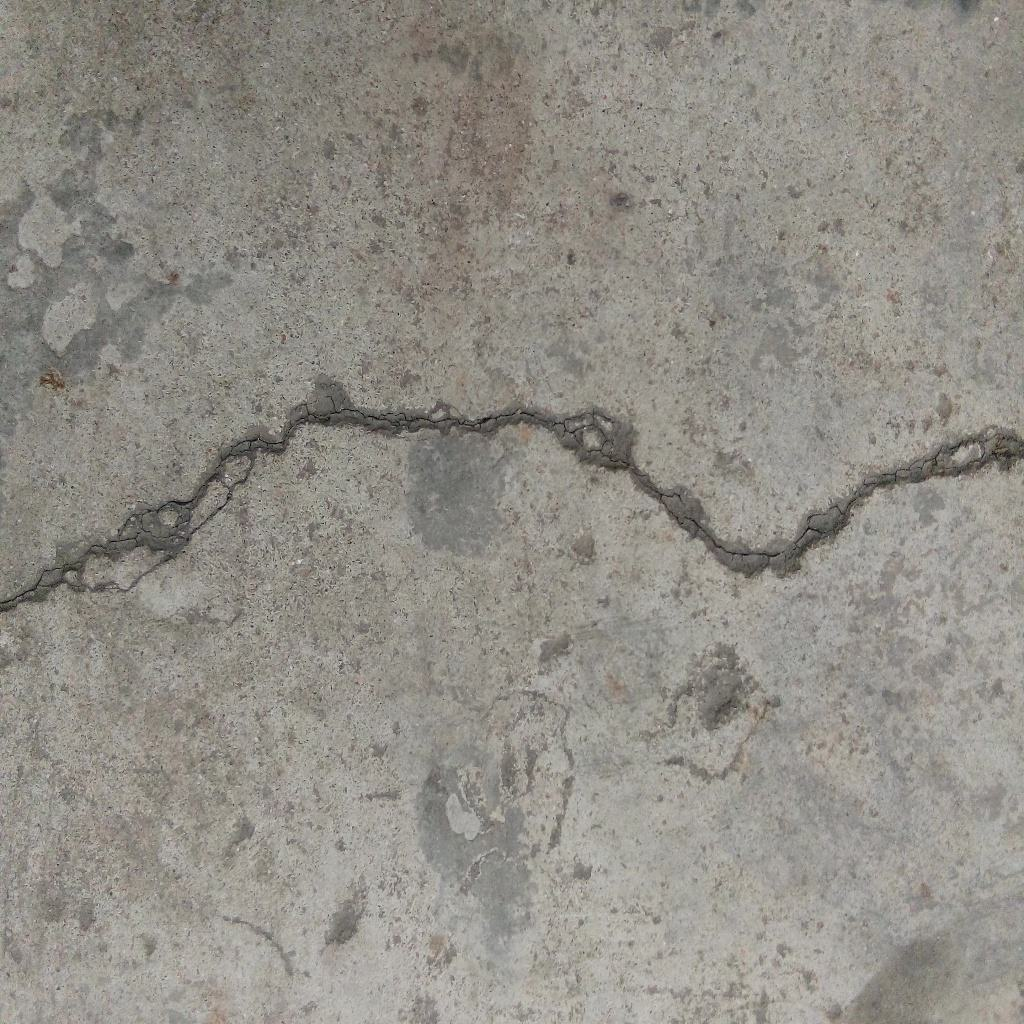Crack: (1, 379, 1024, 613)
Spalling: (689, 642, 756, 732)
